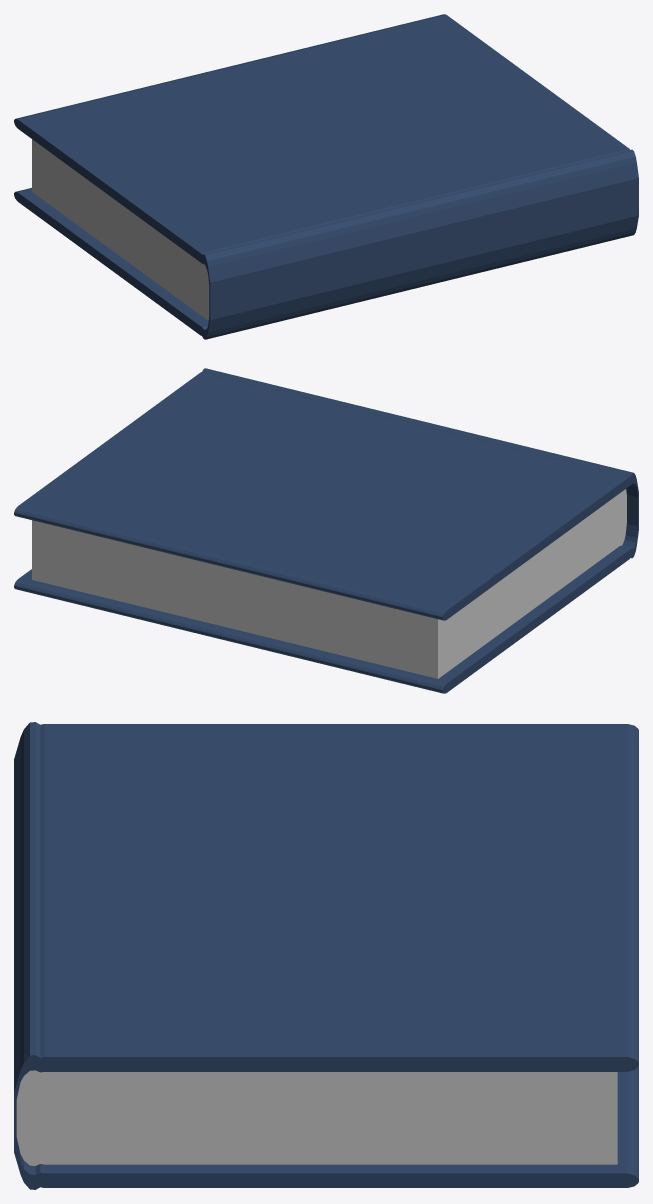
Rendered from book_blue.fbx.
3 renders of one model, top to bottom at view 1: azimuth 30°, elevation 25°; view 2: azimuth 150°, elevation 25°; view 3: azimuth 270°, elevation 25°, orthographic. The views are drawn at different scales.
Visible parts, largest first — view 1: book; view 2: book; view 3: book.
Part boxes in pixels (x1=…): book: x1=14, y1=14, x2=638, y2=339; book: x1=14, y1=368, x2=638, y2=693; book: x1=14, y1=722, x2=638, y2=1189.
Size of the model in its own units: 21.11 by 3.98 by 16.74.
